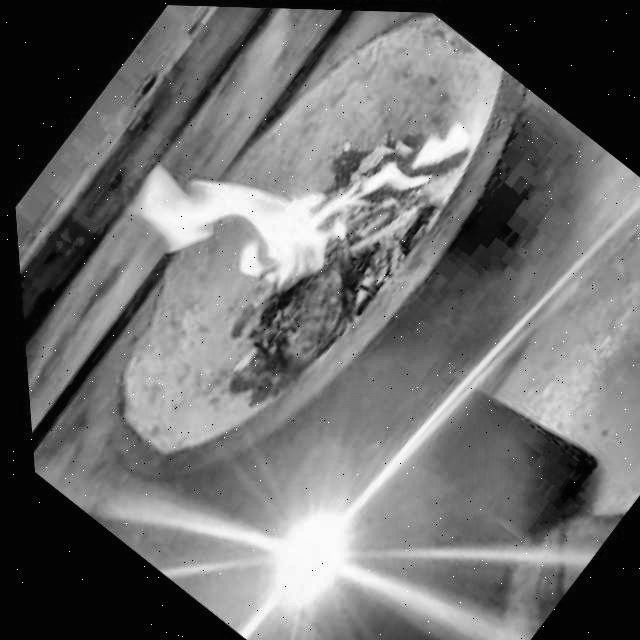Fire: (98, 2, 500, 375)
